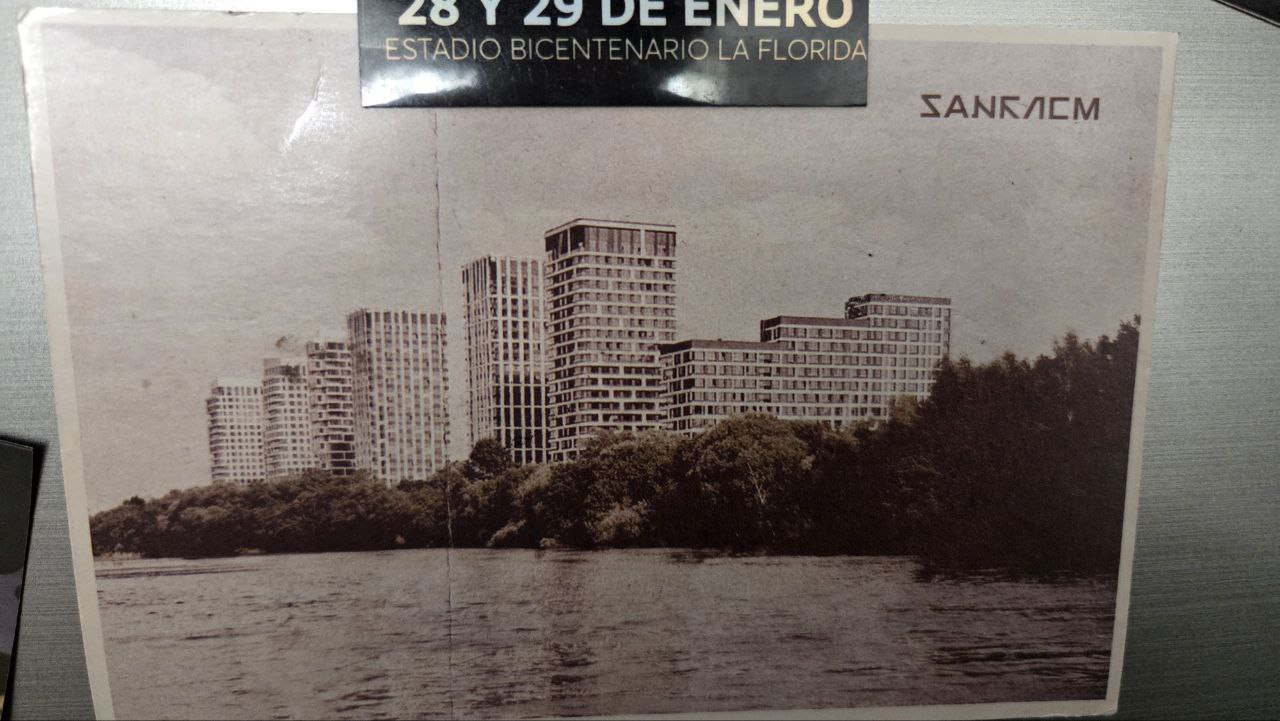B: (970, 92, 999, 122)
C: (1048, 94, 1073, 122)
G: (915, 89, 943, 121)
I: (1022, 95, 1047, 123)
K: (1072, 96, 1102, 123)
R: (997, 93, 1026, 123)
U: (942, 91, 971, 121)
